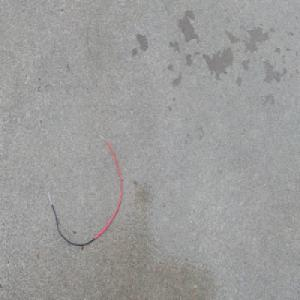Wire: (46, 131, 124, 248)
